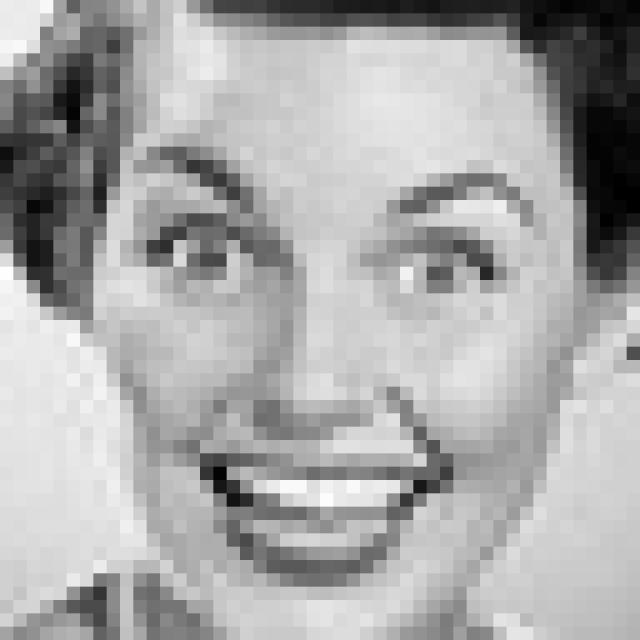happy: (117, 130, 550, 597)
